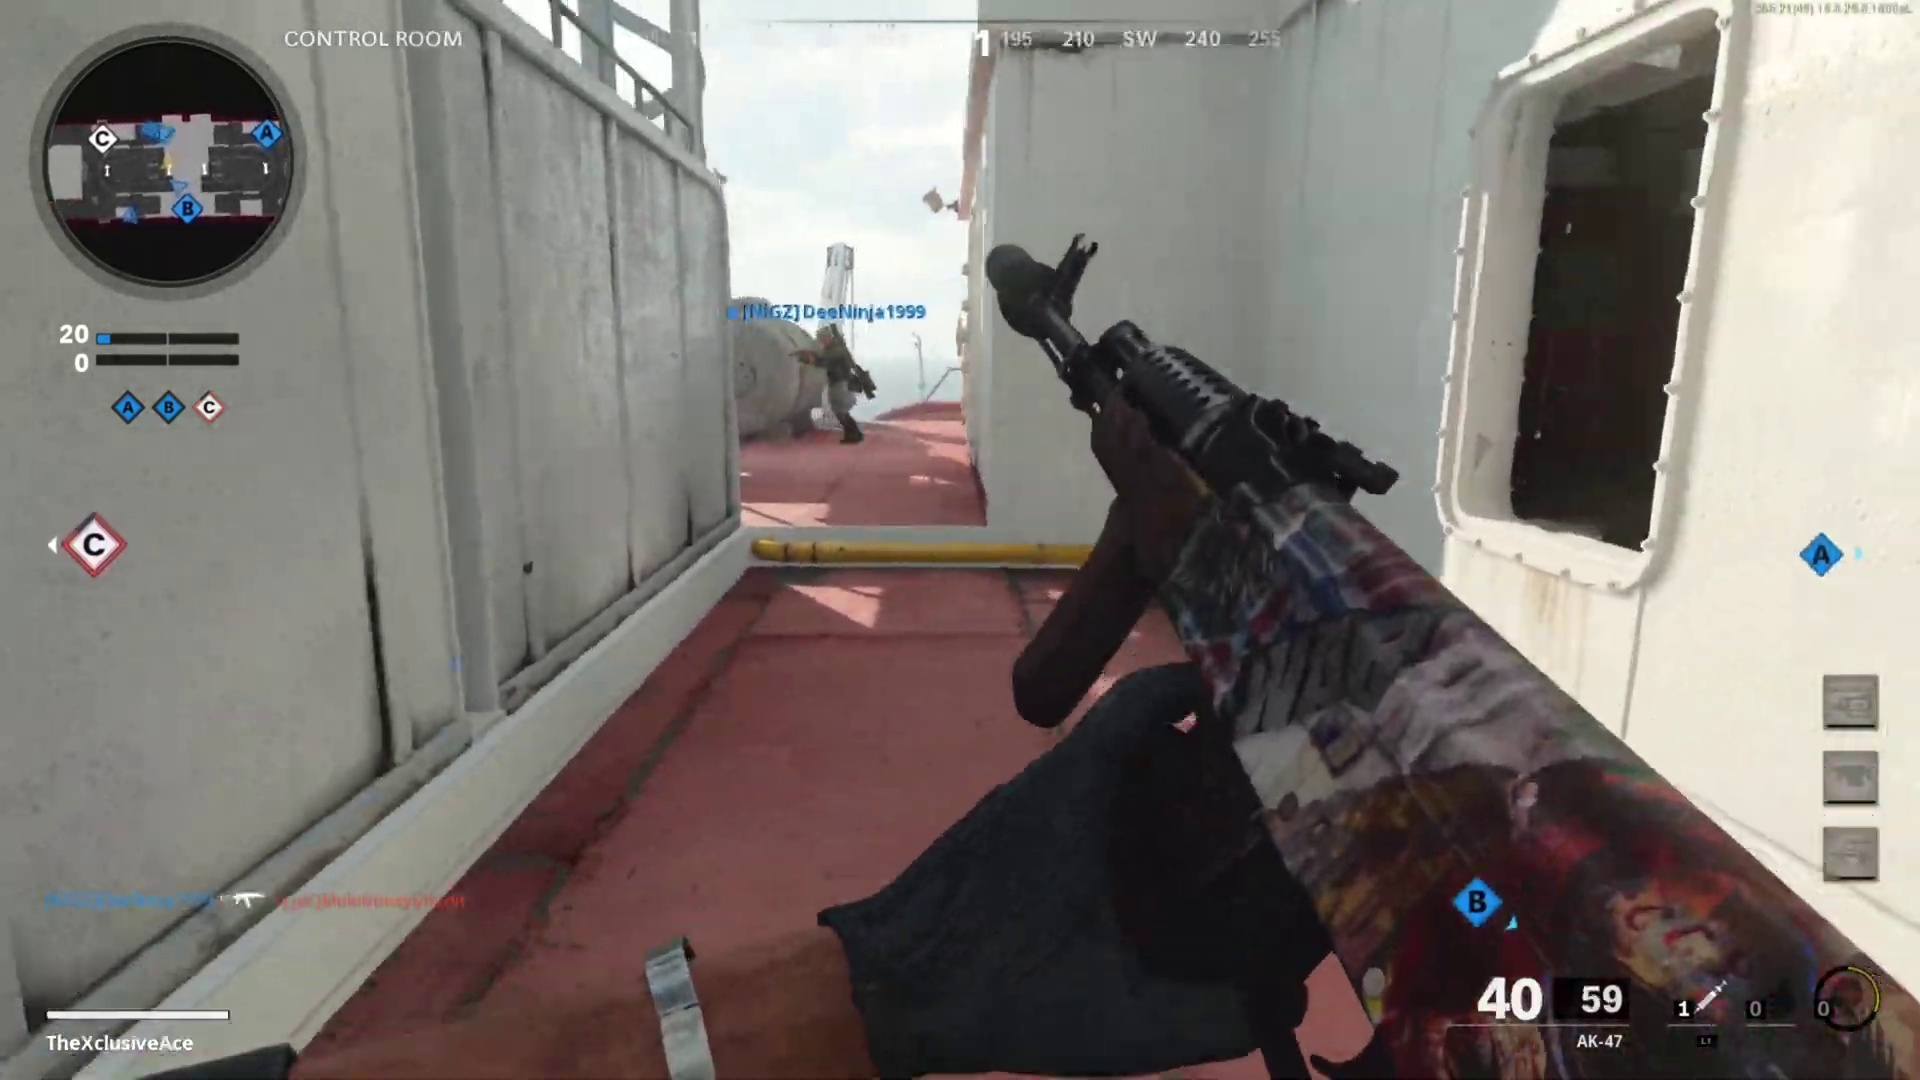head: (810, 323, 836, 353)
person: (802, 328, 871, 441)
